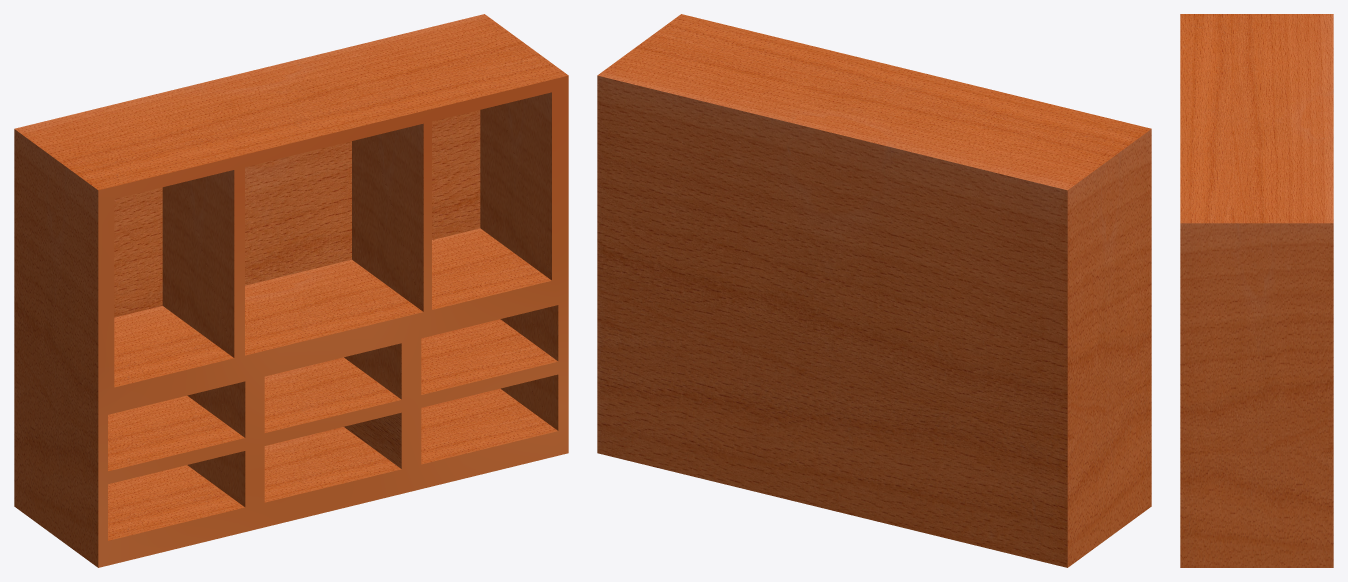
Rendered from Furniture.obj.
3 renders of one model, left to right at view 1: azimuth 30°, elevation 25°; view 2: azimuth 150°, elevation 25°; view 3: azimuth 270°, elevation 25°, orthographic. The views are drawn at different scales.
Parts seen in each view (by area): view 1: pCube13; view 2: pCube13; view 3: pCube13.
Part boxes in pixels (box(x1,y1,x2,y2)): pCube13: box(14, 14, 568, 567); pCube13: box(597, 14, 1151, 567); pCube13: box(1180, 14, 1333, 567).
Bounding box in the file's own units: 6.12 × 4.69 × 1.89.
1 material, 1 textured.
